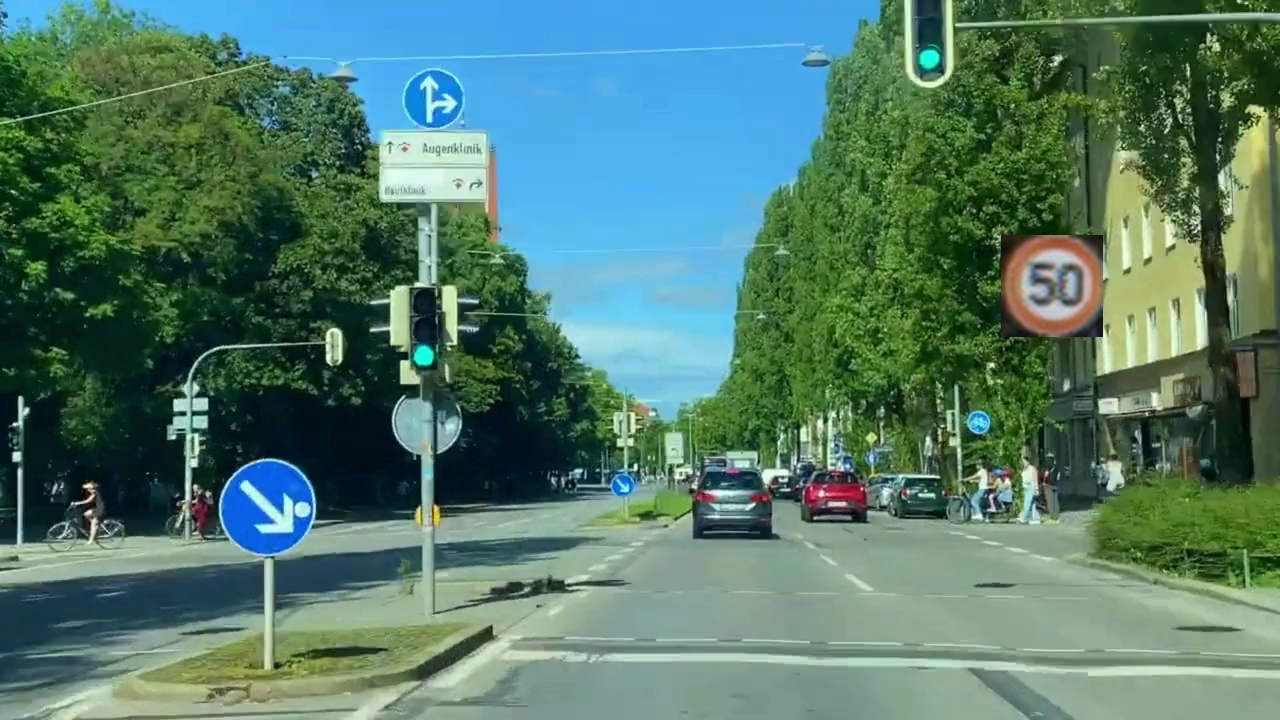Speed 50: (1001, 235, 1103, 337)
